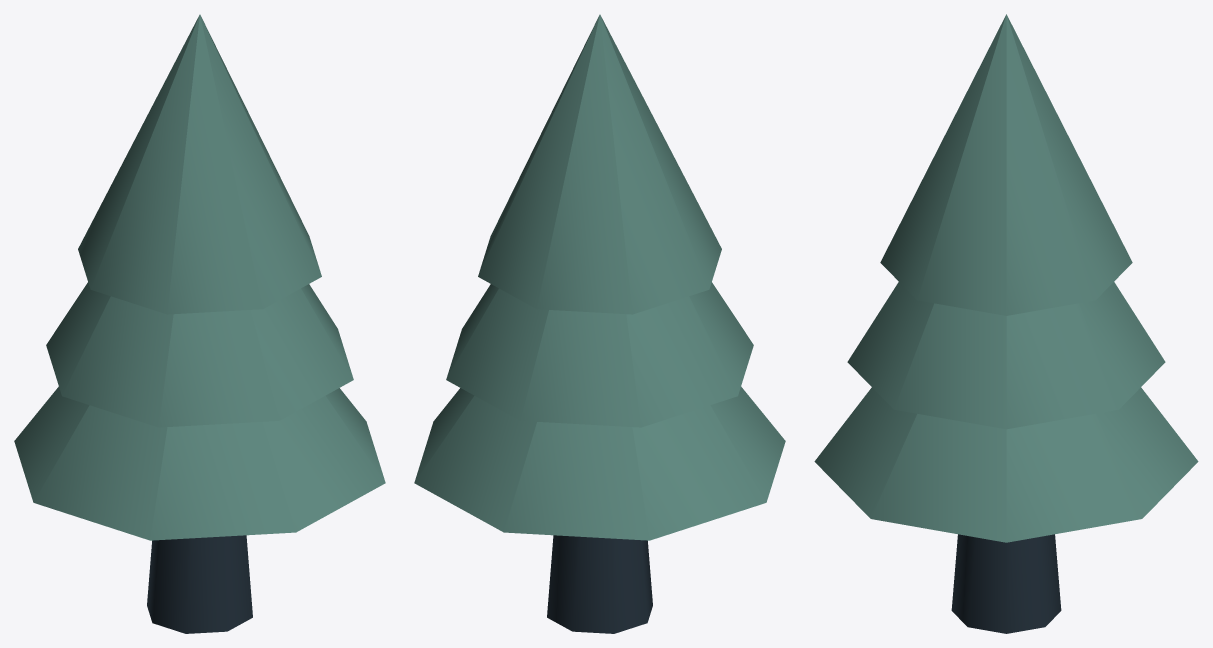
Rendered from terrain-tree.glb.
3 views of the same model, side by side, from view 1: azimuth 30°, elevation 25°; view 2: azimuth 150°, elevation 25°; view 3: azimuth 270°, elevation 25° (orthographic).
Visible parts, largest first — view 1: terrain-tree; view 2: terrain-tree; view 3: terrain-tree.
Part boxes in pixels (<box>): terrain-tree: <box>14,14,385,633</box>; terrain-tree: <box>414,14,785,633</box>; terrain-tree: <box>814,14,1198,633</box>.
Size of the model in its own units: 0.7 by 1.2 by 0.7.
